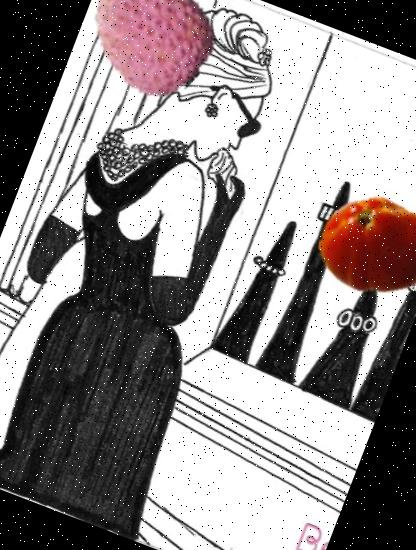Lychee: (66, 0, 234, 115)
Tomato: (301, 171, 416, 318)
